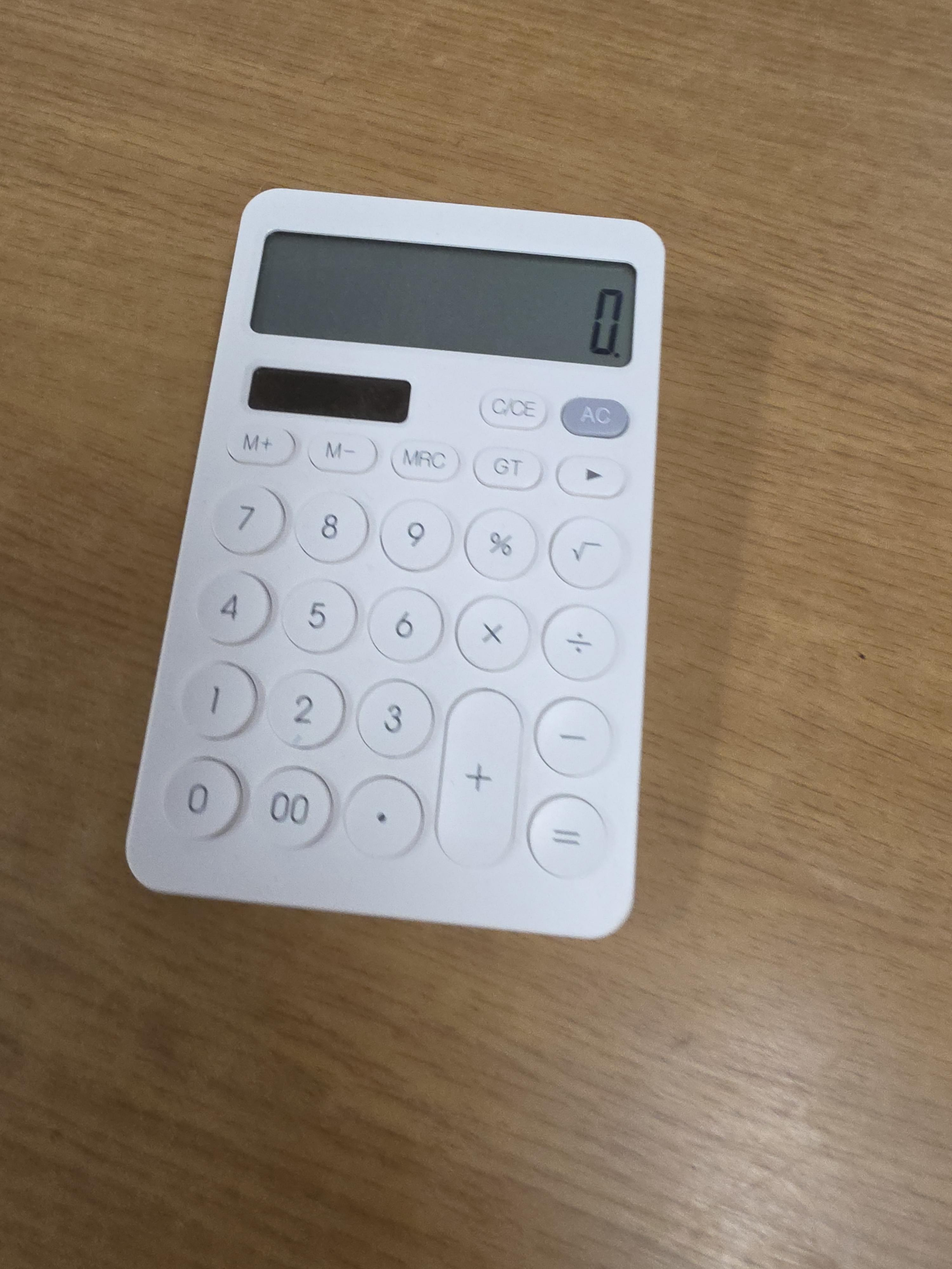calculator: (125, 188, 667, 940)
